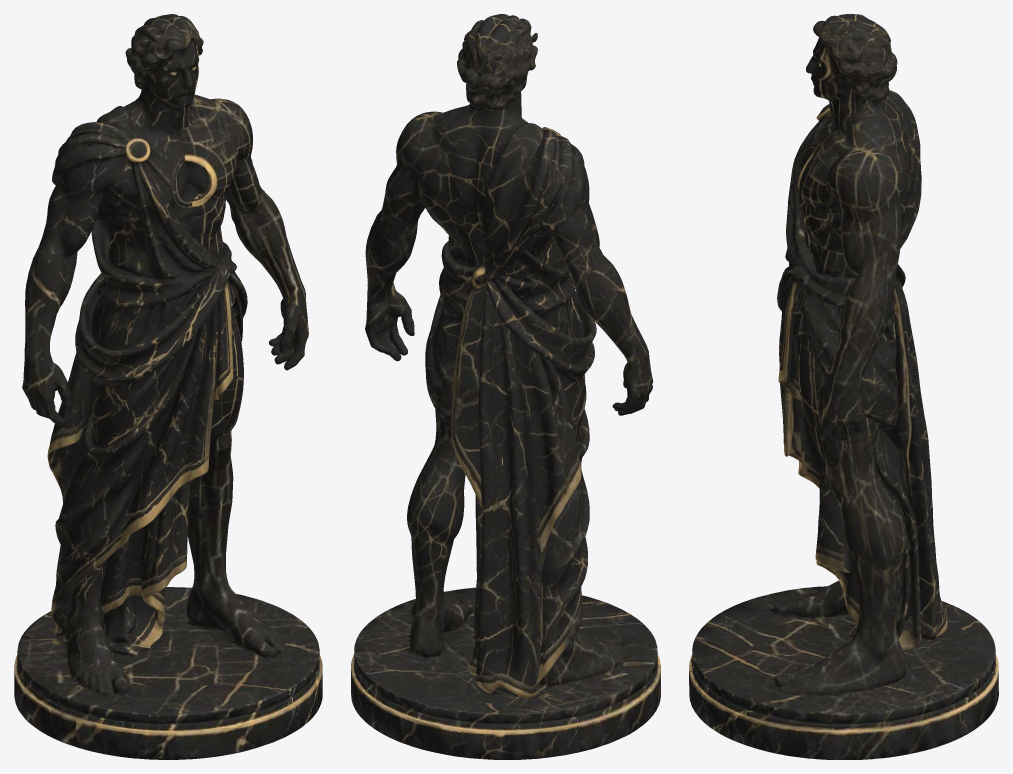
The model's file is colossus-mobile.glb.
3 renders of one model, left to right at view 1: azimuth 30°, elevation 25°; view 2: azimuth 150°, elevation 25°; view 3: azimuth 270°, elevation 25°, orthographic.
Bounding box in the file's own units: 0.8231 × 1.9 × 0.7871.
Materials: 1 (1 with a texture image).
